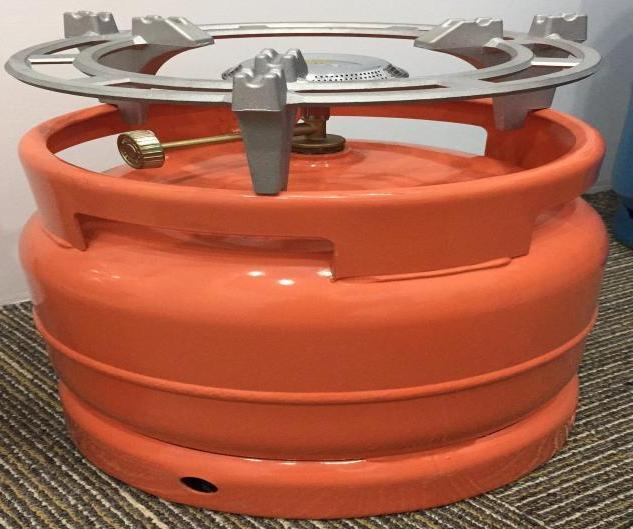cylinder: (1, 1, 633, 529)
